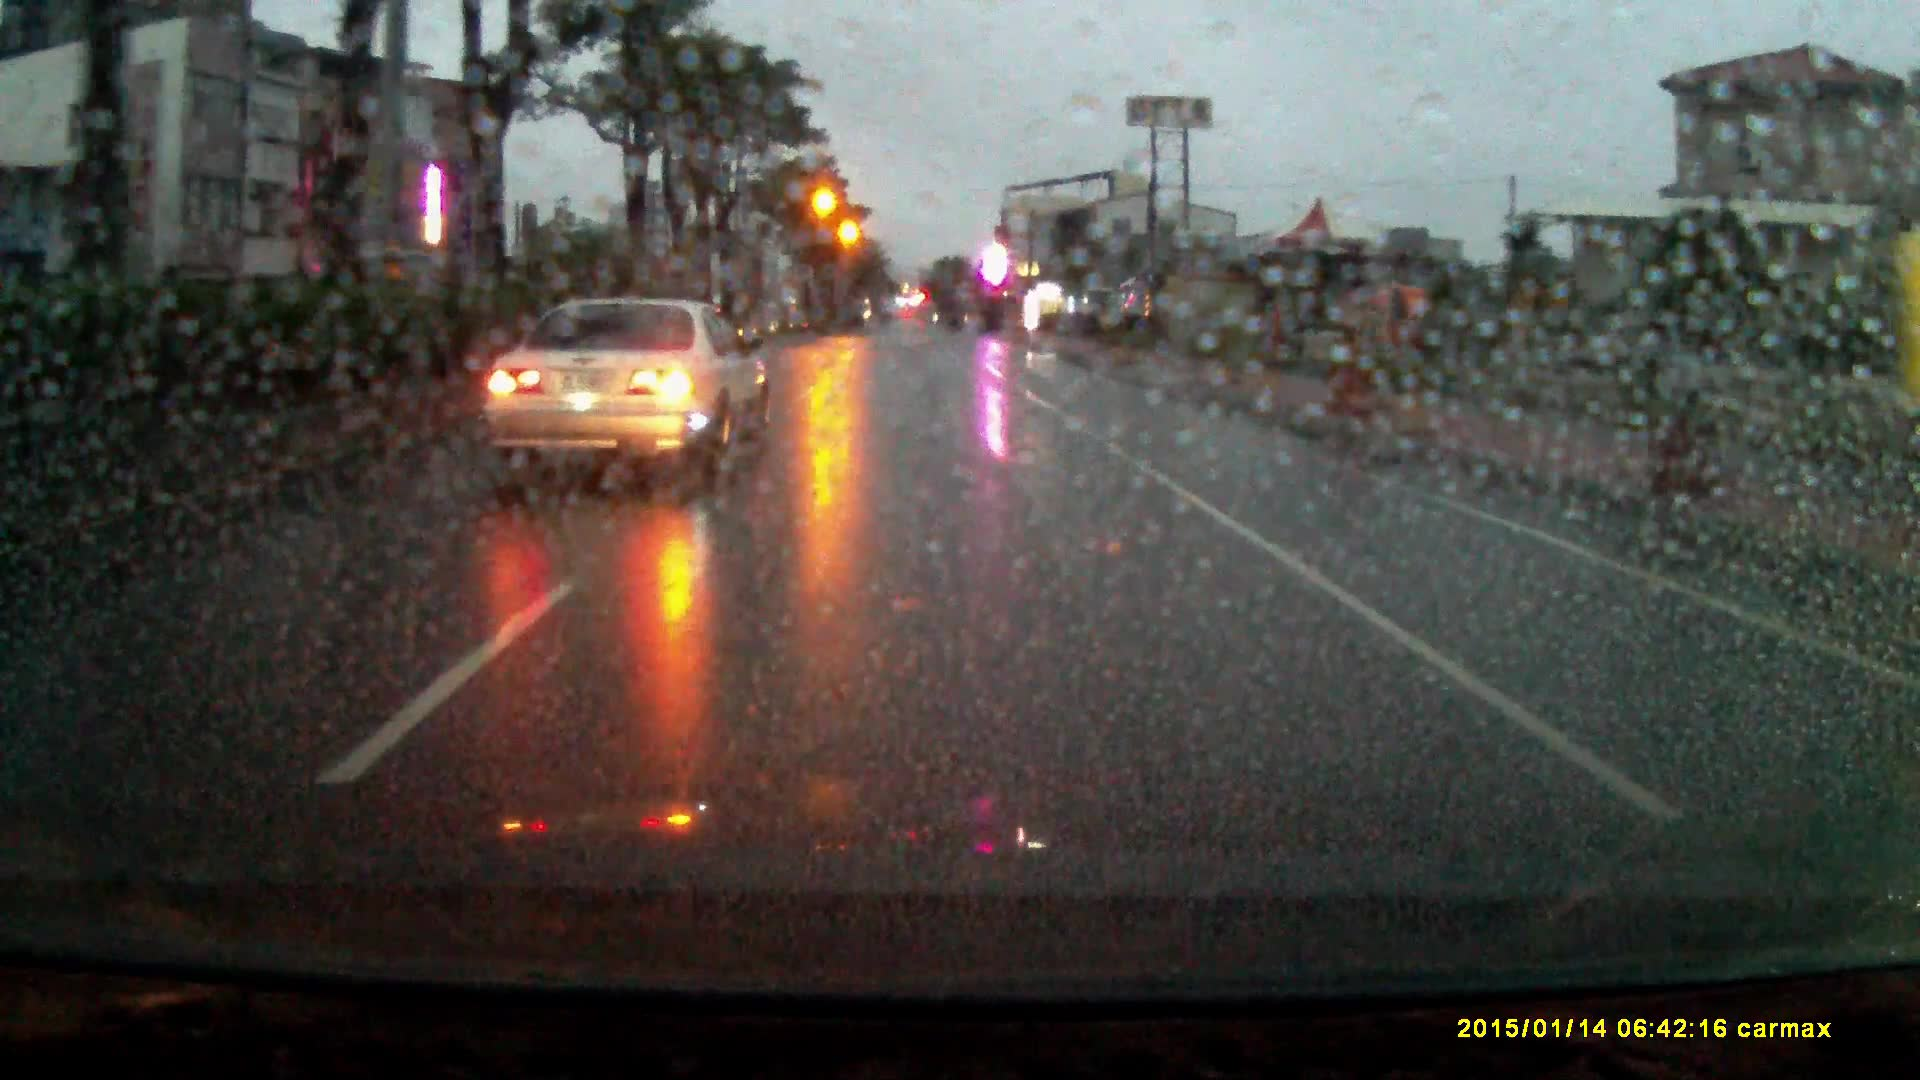pedestrian: (1360, 277, 1432, 425)
vehicle: (484, 287, 779, 484)
